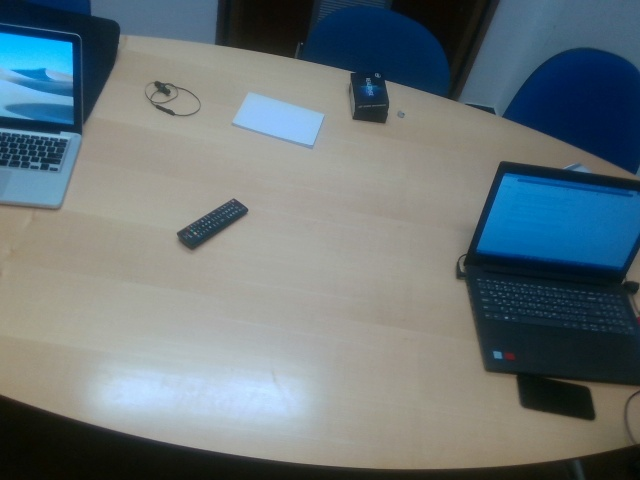remote: (177, 197, 248, 250)
